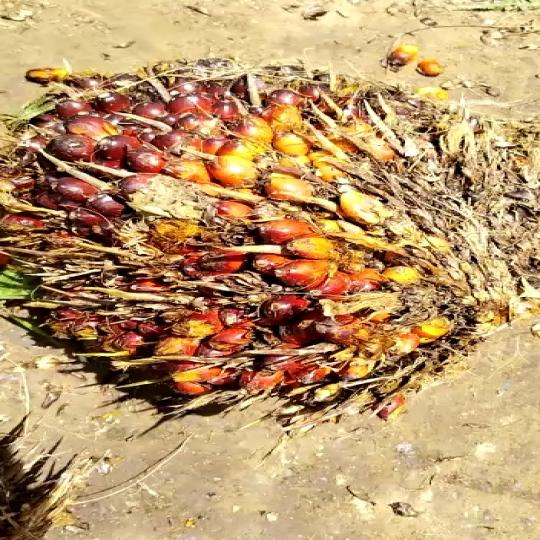masak: (0, 46, 540, 443)
